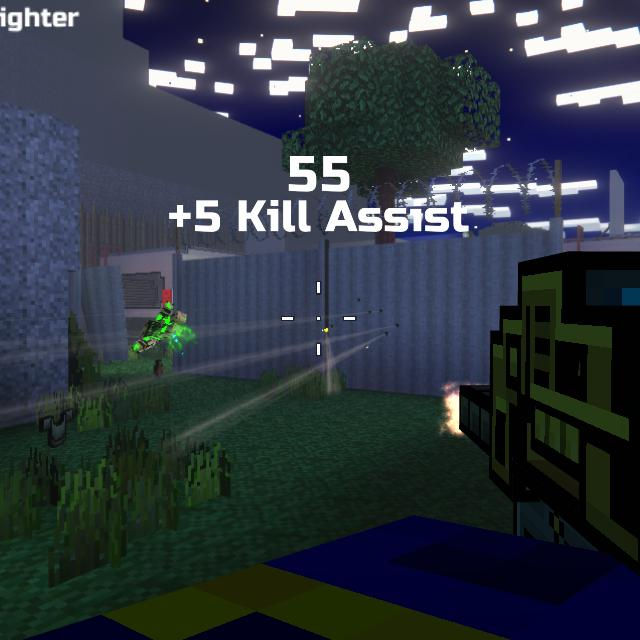Enemy: (164, 295, 173, 308)
